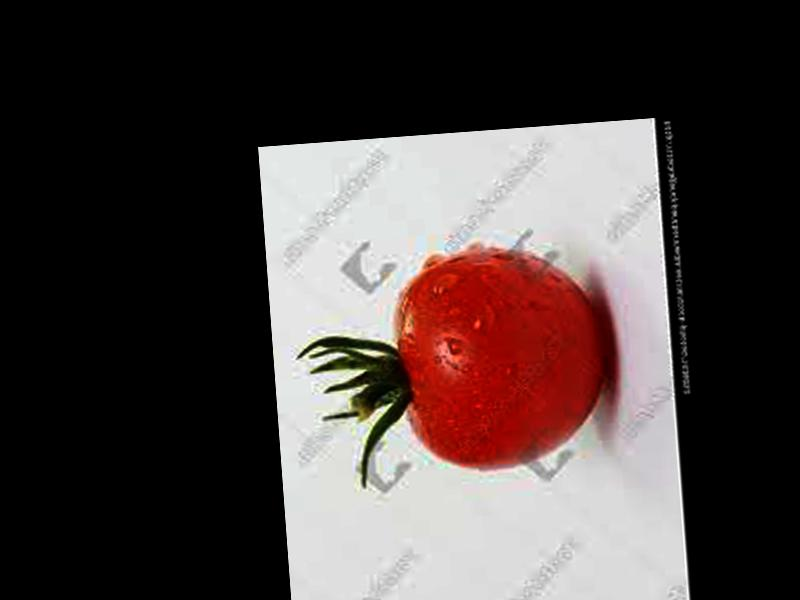Tomato: (394, 242, 612, 475)
